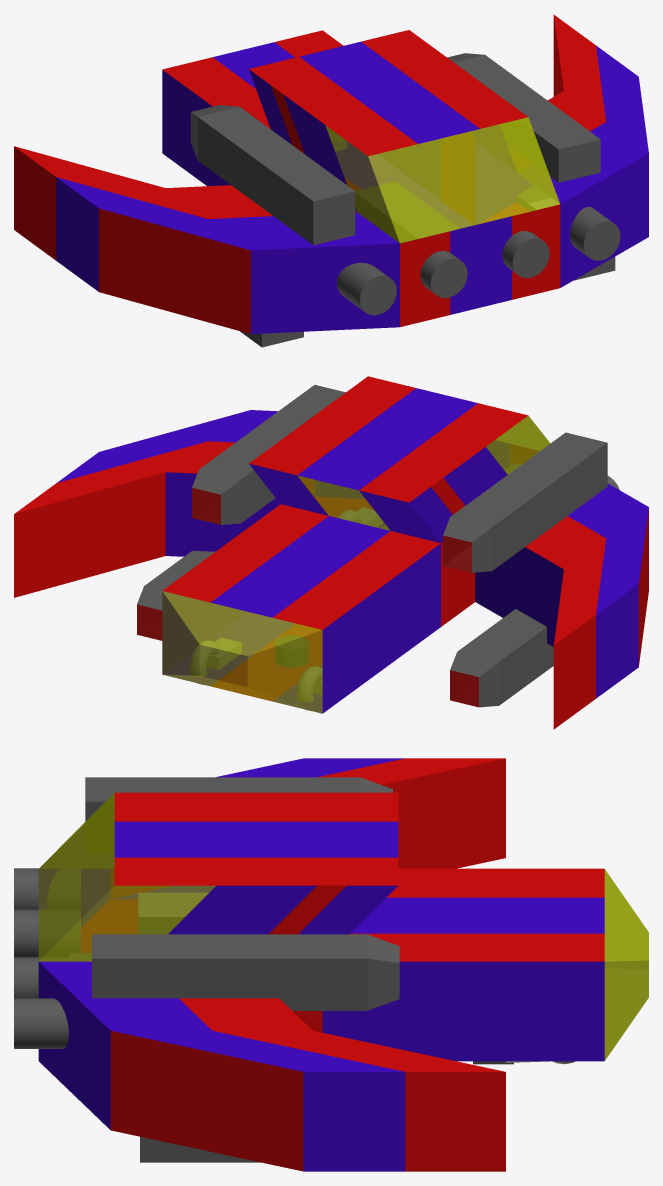
Rendered from u-wing_spaceship.fbx.
3 views of the same model, one above another, from view 1: azimuth 30°, elevation 25°; view 2: azimuth 150°, elevation 25°; view 3: azimuth 270°, elevation 25° (orthographic). The views are drawn at different scales.
Parts seen in each view (by area): view 1: spaceship_1:pCube2, spaceship_1:pCube1, spaceship_1:pasted__pCube1 (×2), spaceship_1:pCube4, spaceship_1:pCylinder1, spaceship_1:pasted__pCylinder1, spaceship_1:pasted__pasted__pasted__pCylinder1, spaceship_1:pasted__pasted__pCylinder1, spaceship_1:pasted__pasted__pCube1; view 2: spaceship_1:pCube2, spaceship_1:pasted__pCube1 (×2), spaceship_1:pCube1, spaceship_1:pasted__pasted__pCube1, spaceship_1:pasted__pasted__group7_pasted__pCube5, spaceship_1:pasted__group7_pasted__pCube5 (×2), spaceship_1:pCylinder2; view 3: spaceship_1:pCube2, spaceship_1:pasted__pCube1 (×2), spaceship_1:pCube1, spaceship_1:pasted__pasted__pCylinder1, spaceship_1:pasted__pCylinder1, spaceship_1:pCylinder1, spaceship_1:pasted__pasted__pCube1, spaceship_1:pasted__pasted__pasted__pCylinder1.
Part boxes in pixels (x1=…): spaceship_1:pCube2: x1=14, y1=14, x2=648, y2=333; spaceship_1:pCube1: x1=190, y1=105, x2=355, y2=245; spaceship_1:pasted__pCube1 (×2): x1=240, y1=53, x2=600, y2=347; spaceship_1:pCube4: x1=355, y1=181, x2=459, y2=242; spaceship_1:pCylinder1: x1=336, y1=262, x2=396, y2=315; spaceship_1:pasted__pCylinder1: x1=570, y1=206, x2=620, y2=260; spaceship_1:pasted__pasted__pasted__pCylinder1: x1=502, y1=231, x2=549, y2=277; spaceship_1:pasted__pasted__pCylinder1: x1=420, y1=251, x2=467, y2=297; spaceship_1:pasted__pasted__pCube1: x1=517, y1=186, x2=615, y2=280; spaceship_1:pCube2: x1=14, y1=376, x2=648, y2=729; spaceship_1:pasted__pCube1 (×2): x1=192, y1=385, x2=553, y2=707; spaceship_1:pCube1: x1=443, y1=432, x2=607, y2=572; spaceship_1:pasted__pasted__pCube1: x1=137, y1=550, x2=215, y2=640; spaceship_1:pasted__pasted__group7_pasted__pCube5: x1=190, y1=638, x2=241, y2=684; spaceship_1:pasted__group7_pasted__pCube5 (×2): x1=297, y1=507, x2=382, y2=710; spaceship_1:pCylinder2: x1=275, y1=635, x2=308, y2=667; spaceship_1:pCube2: x1=38, y1=758, x2=648, y2=1171; spaceship_1:pasted__pCube1 (×2): x1=92, y1=893, x2=399, y2=1010; spaceship_1:pCube1: x1=85, y1=777, x2=392, y2=821; spaceship_1:pasted__pasted__pCylinder1: x1=14, y1=909, x2=80, y2=957; spaceship_1:pasted__pCylinder1: x1=14, y1=998, x2=68, y2=1048; spaceship_1:pCylinder1: x1=14, y1=868, x2=80, y2=909; spaceship_1:pasted__pasted__pCube1: x1=140, y1=1136, x2=260, y2=1162; spaceship_1:pasted__pasted__pasted__pCylinder1: x1=14, y1=957, x2=80, y2=998.
Bounding box in the file's own units: 12.87 × 4.22 × 11.02.
